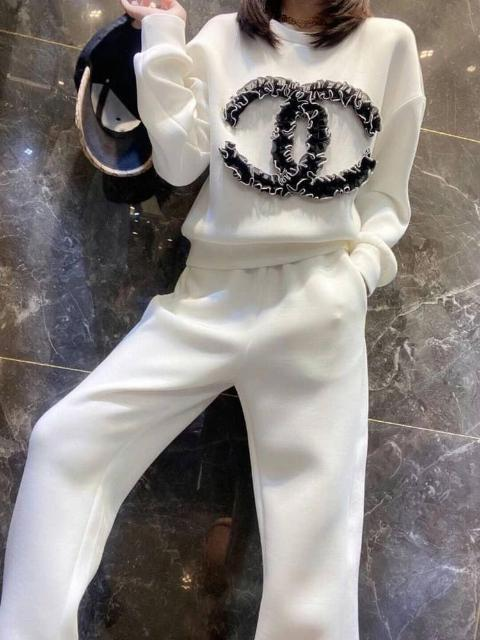Chanel: (194, 59, 388, 205)
